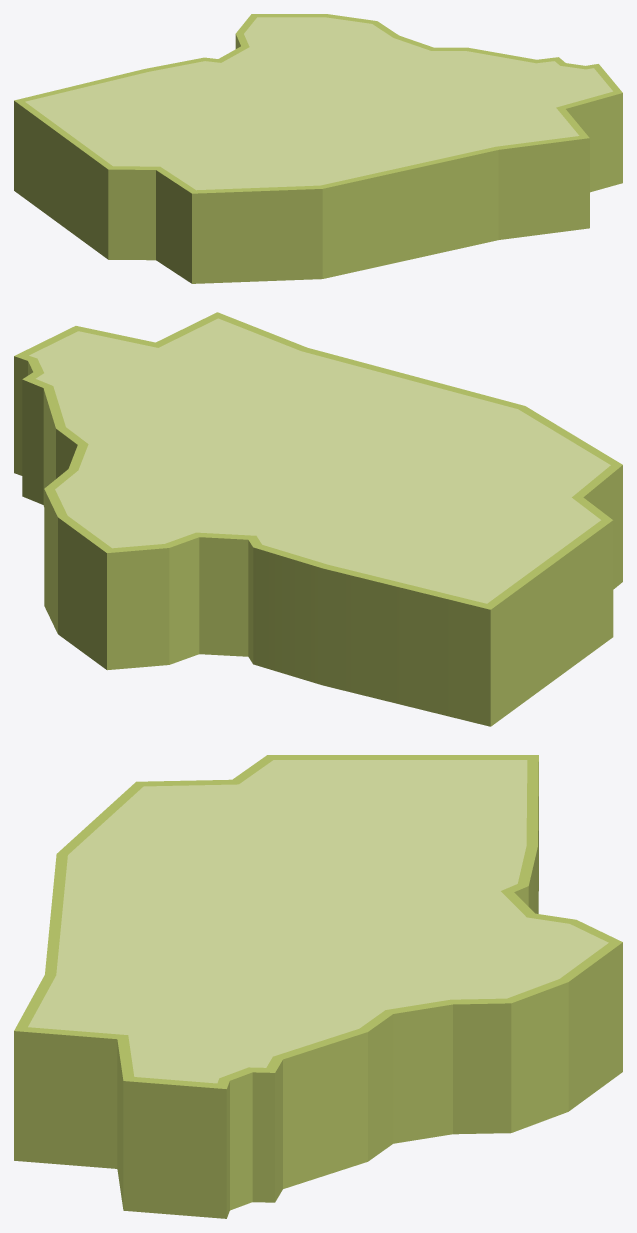
File: Islands2.007.fbx
3 renders of one model, top to bottom at view 1: azimuth 30°, elevation 25°; view 2: azimuth 150°, elevation 25°; view 3: azimuth 270°, elevation 25°, orthographic. The views are drawn at different scales.
Visible parts, largest first — view 1: Island2.007; view 2: Island2.007; view 3: Island2.007.
Part boxes in pixels (x1=…): Island2.007: x1=14, y1=14, x2=622, y2=283; Island2.007: x1=14, y1=312, x2=622, y2=726; Island2.007: x1=14, y1=755, x2=622, y2=1218.
Size of the model in its own units: 138 by 25 by 106.
